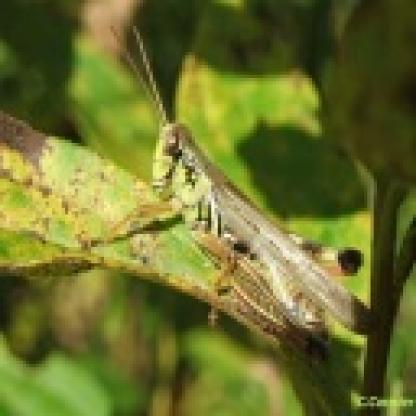grasshopper: (115, 49, 369, 352)
